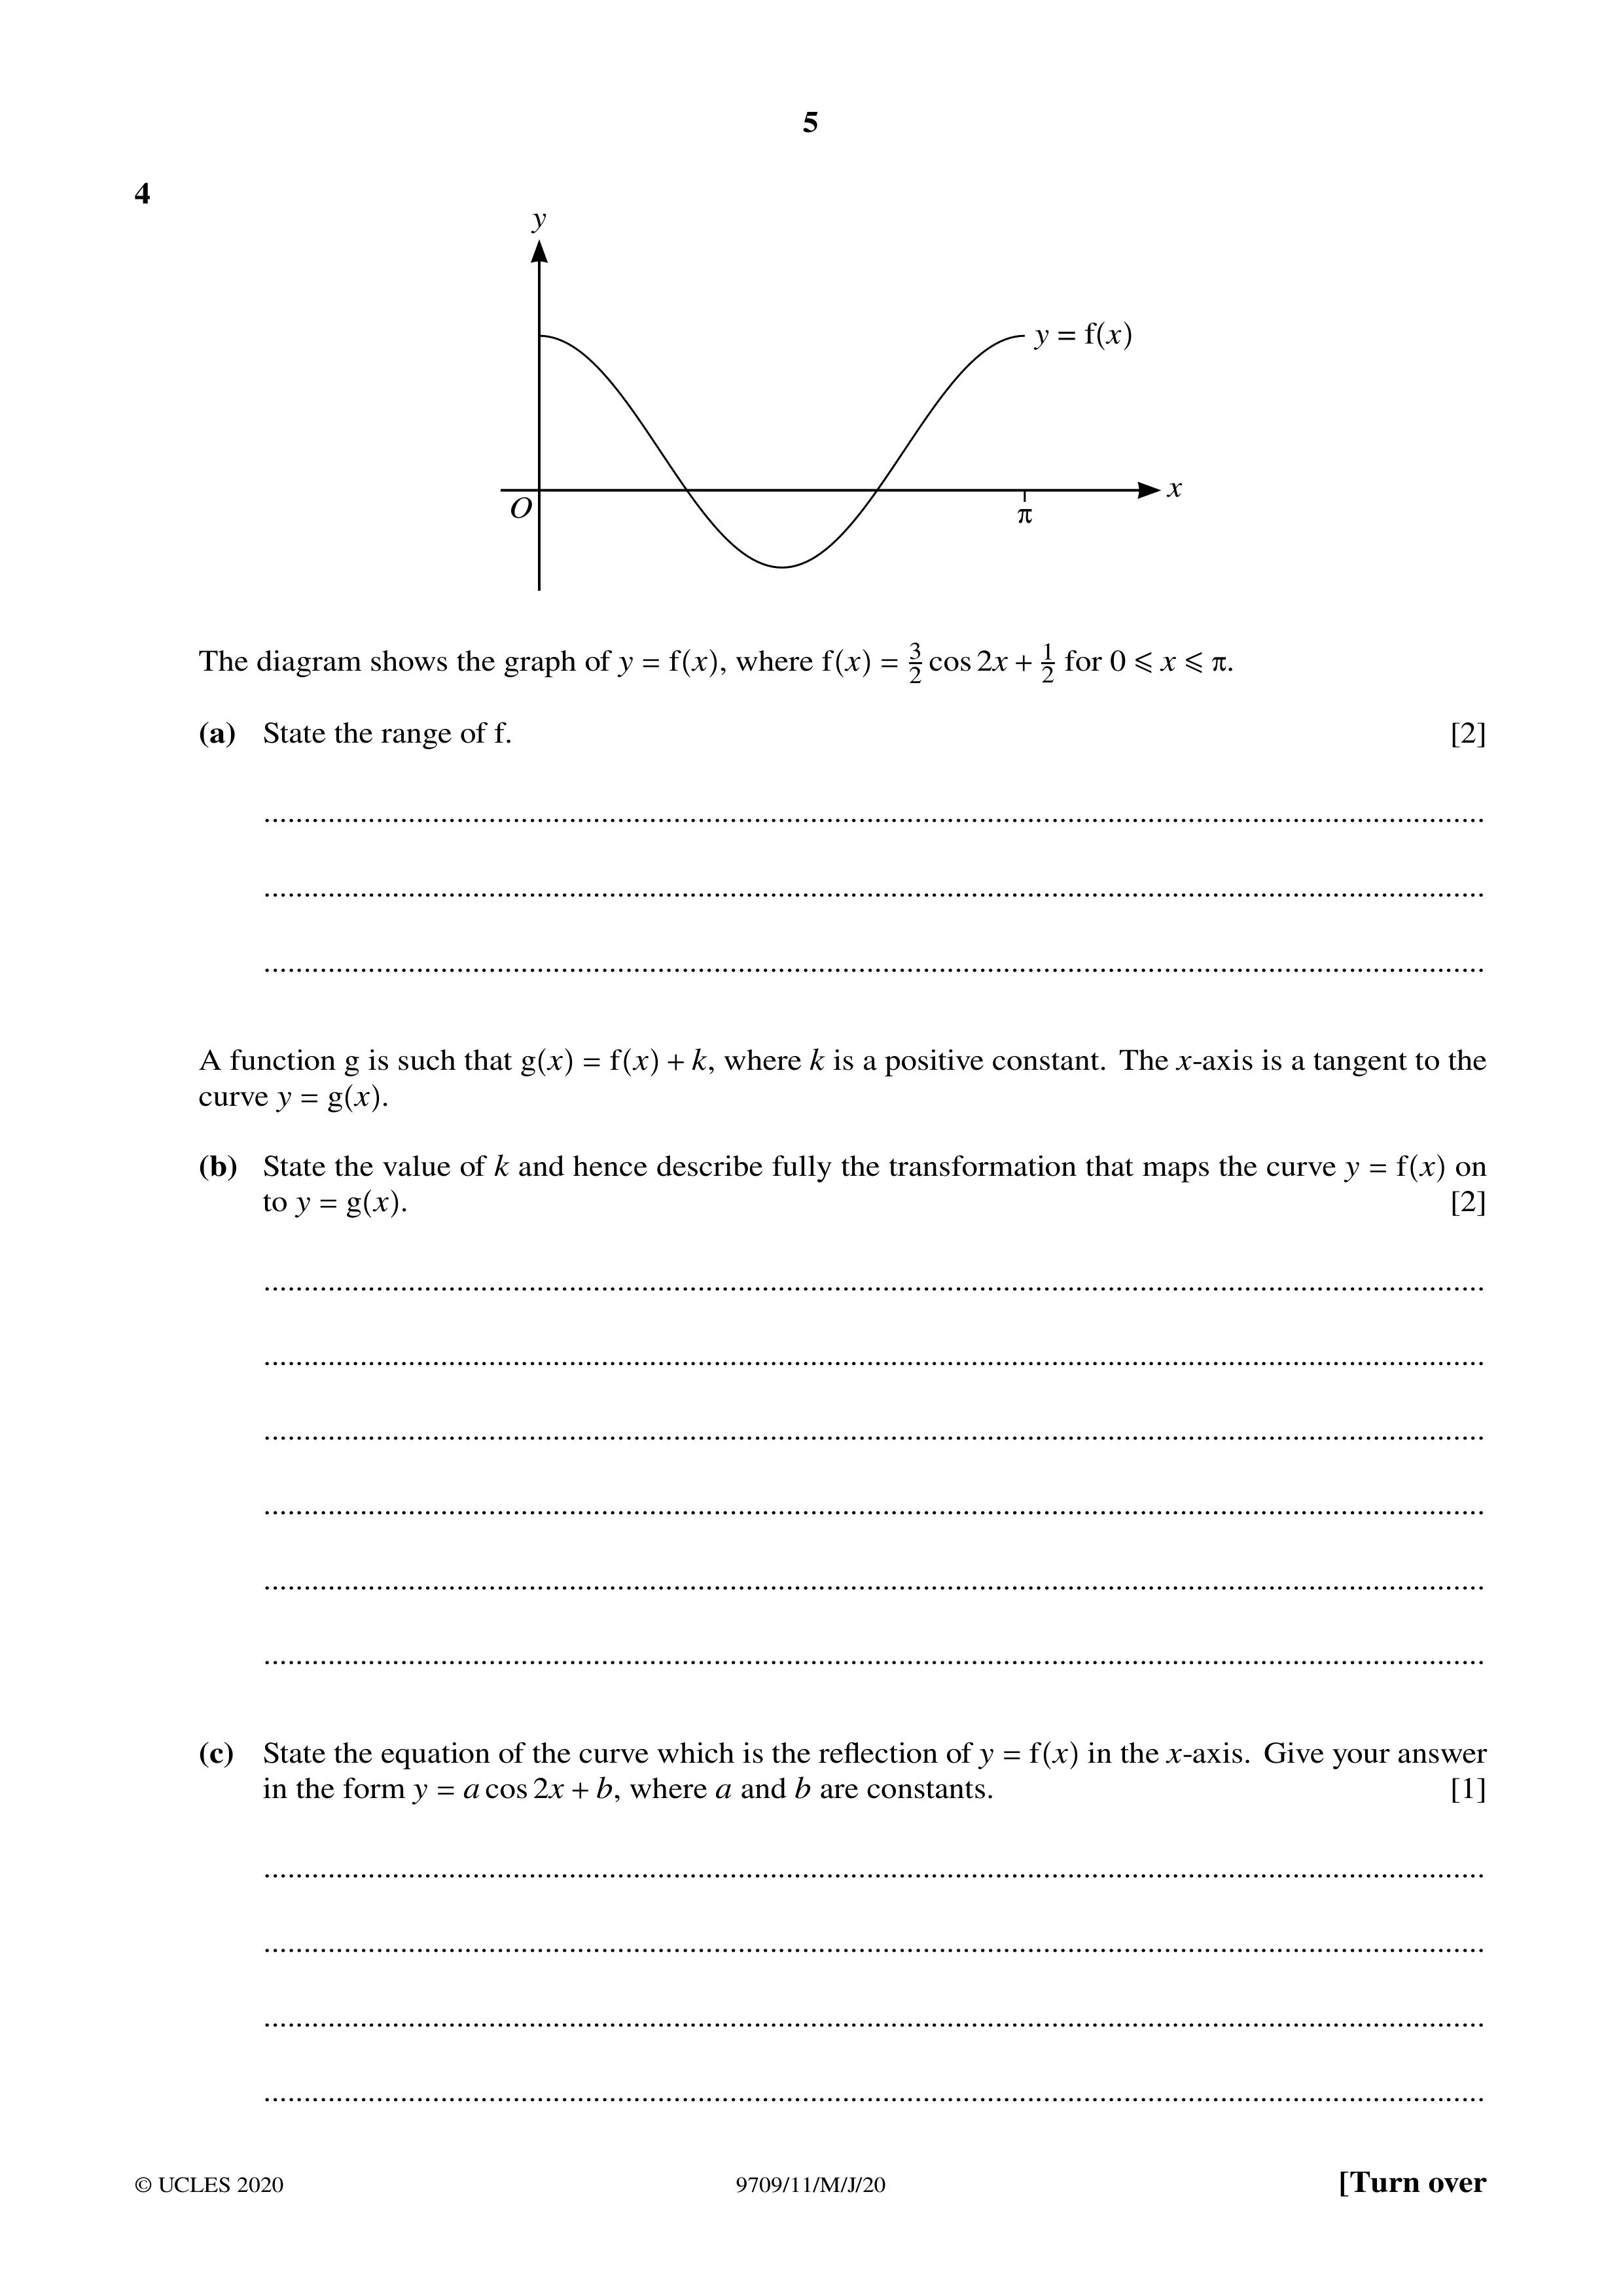question: (107, 151, 1516, 781), (116, 999, 1521, 1269), (126, 1675, 1519, 1841)
